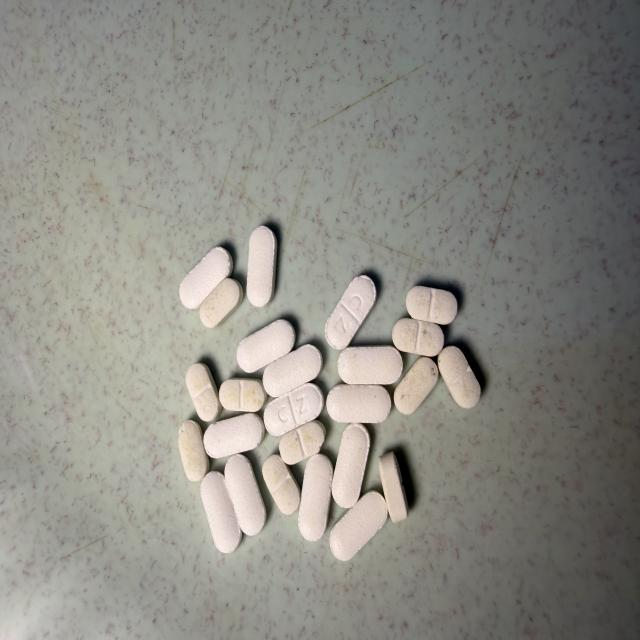pill: (330, 491, 386, 560), (325, 276, 376, 349), (225, 454, 265, 535), (201, 472, 241, 553), (179, 247, 232, 308), (332, 423, 370, 507), (264, 383, 323, 436), (263, 345, 322, 397), (237, 320, 295, 372), (299, 454, 333, 541), (204, 413, 264, 457), (438, 346, 480, 408), (394, 357, 438, 415), (338, 346, 403, 384), (327, 385, 391, 423), (247, 226, 276, 307), (262, 455, 300, 515), (378, 452, 408, 523), (200, 278, 242, 327), (186, 363, 221, 421), (406, 286, 457, 324), (280, 421, 325, 464), (392, 319, 443, 356), (178, 421, 209, 481), (219, 378, 267, 412)
